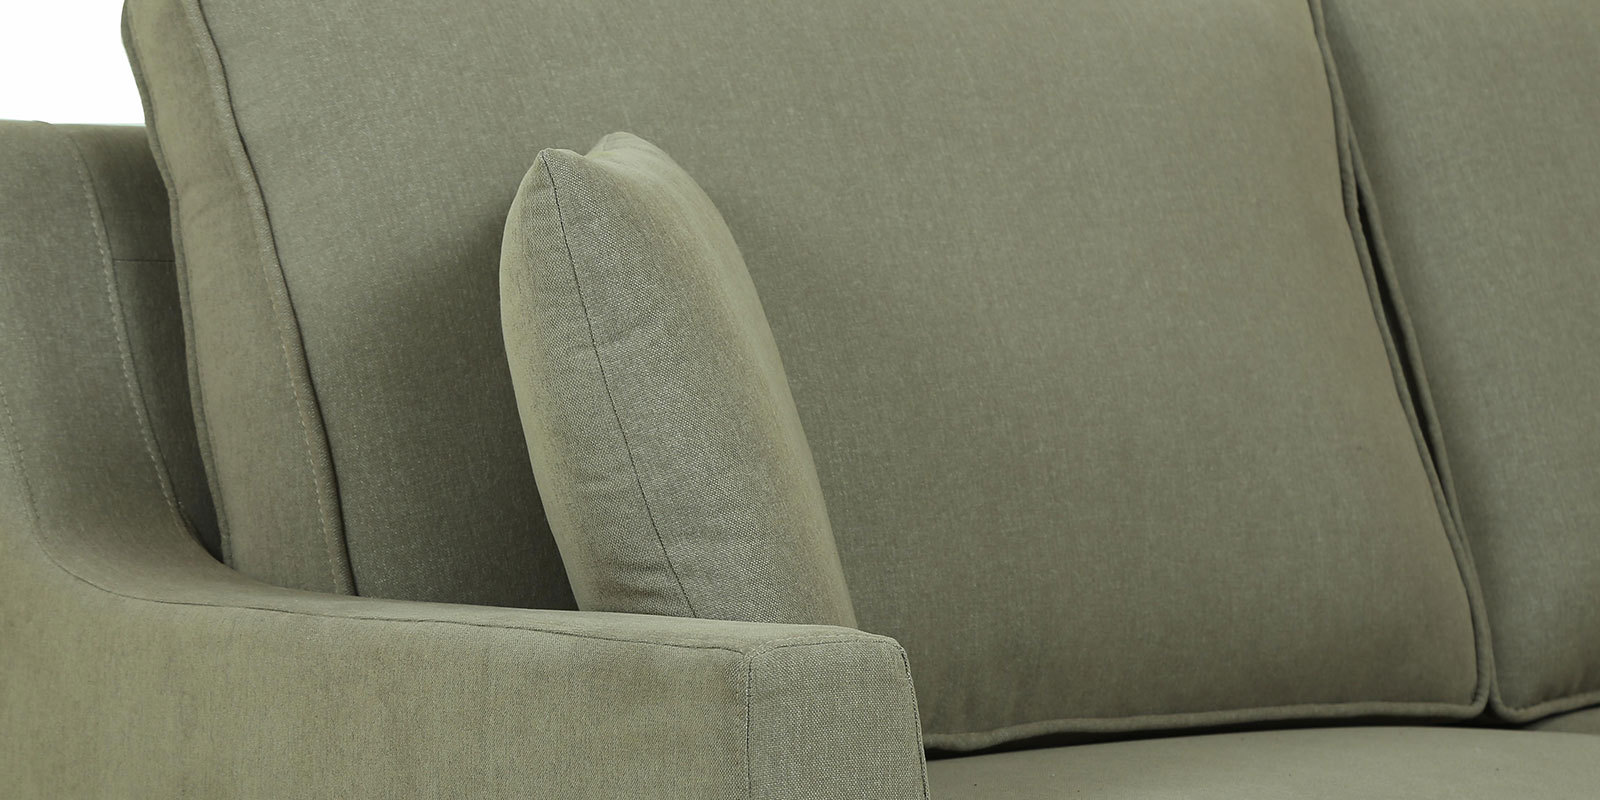Diego Three Seater Sofa in Sandy Colour by CasaCraft: (3, 1, 1600, 792)
